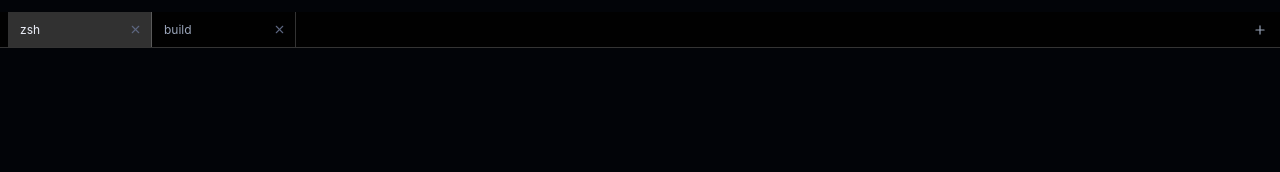
it: TabBar › reorders a tab from its right-click menu
The width and height of the screenshot is (1280, 172).
Right-click the button "zsh".
right_click(66, 30)  # box [8,12,123,47]
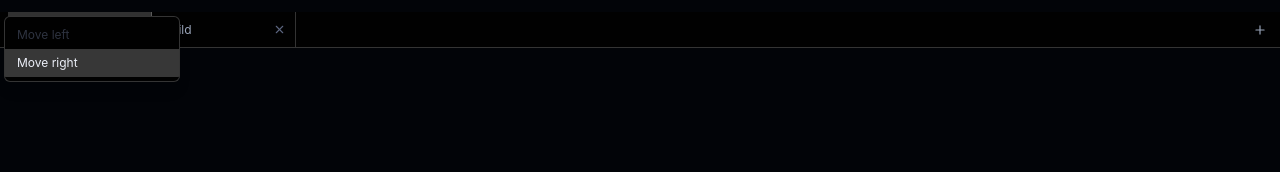
"Move right" is chosen.
Click the menu item "Move right".
click(92, 63)  # box [5,49,179,77]
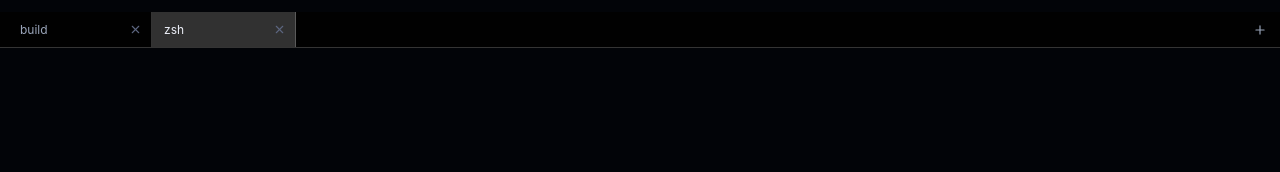
Expected: the menu is gone
